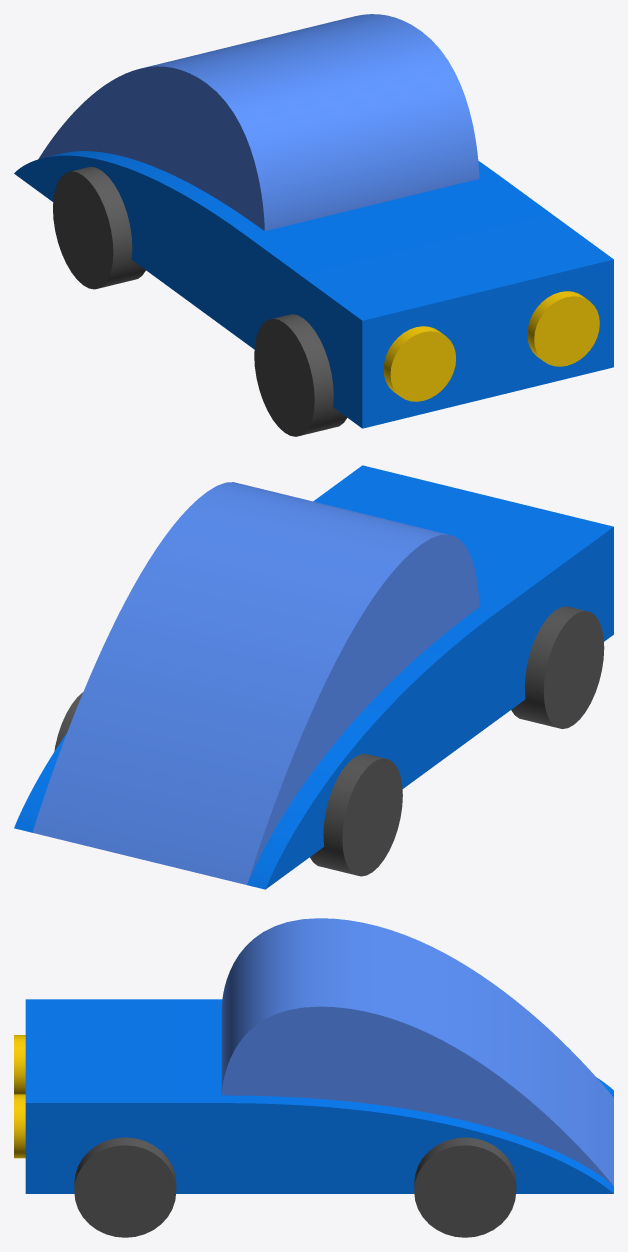
File: Percha.fbx
3 renders of one model, top to bottom at view 1: azimuth 30°, elevation 25°; view 2: azimuth 150°, elevation 25°; view 3: azimuth 270°, elevation 25°, orthographic. The views are drawn at different scales.
Parts seen in each view (by area): view 1: percha; view 2: percha; view 3: percha.
Boxes of the visible parts, <box> form: percha: <box>14,14,613,436</box>; percha: <box>14,465,613,889</box>; percha: <box>14,918,613,1237</box>.
Size of the model in its own units: 5.76 by 4.86 by 12.24.
